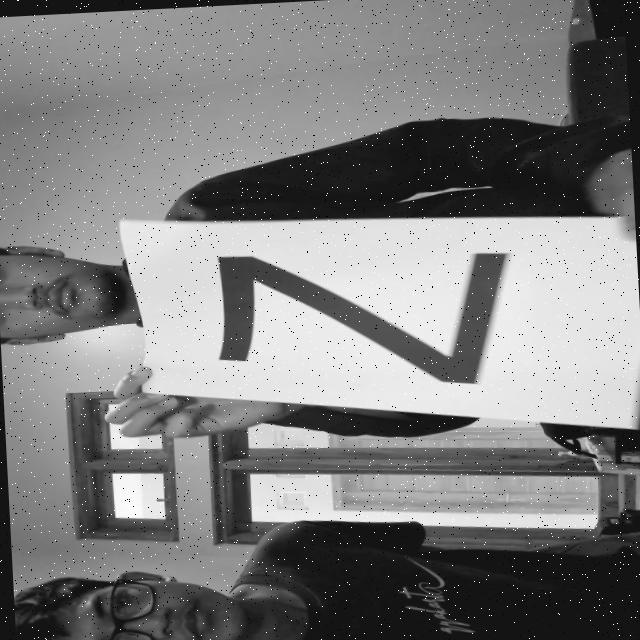z: (195, 234, 528, 404)
